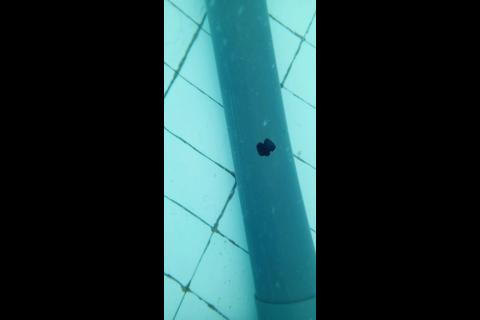kebocoran: (255, 137, 276, 157)
